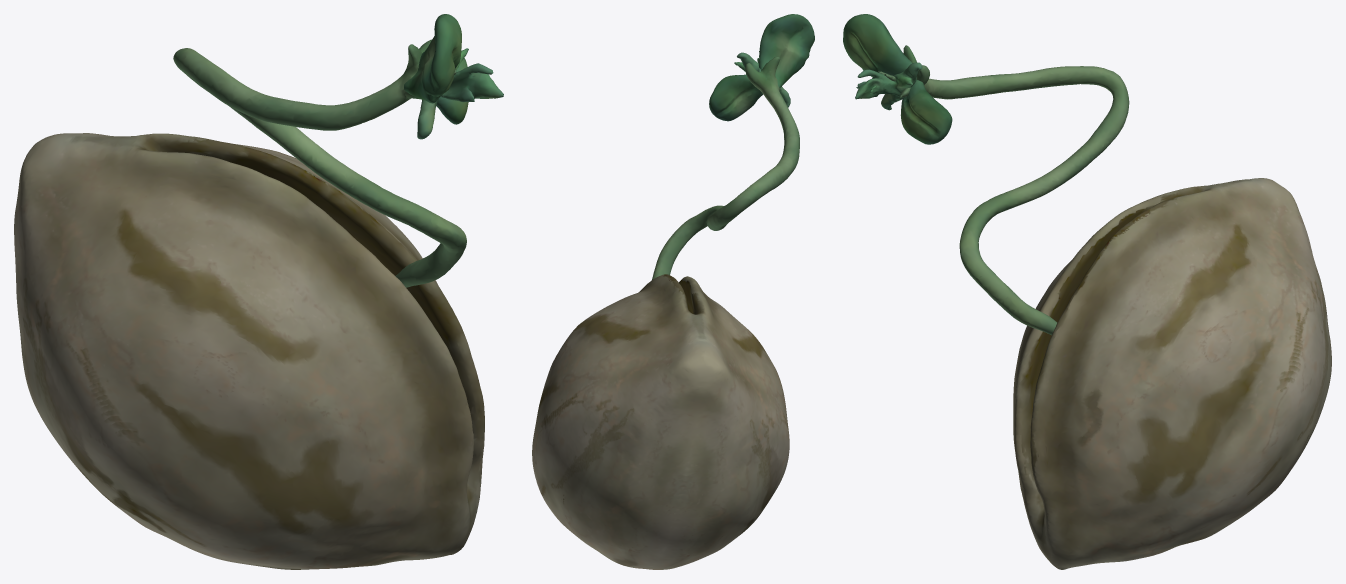
The model's file is seme.glb.
3 renders of one model, left to right at view 1: azimuth 30°, elevation 25°; view 2: azimuth 150°, elevation 25°; view 3: azimuth 270°, elevation 25°, orthographic. The views are drawn at different scales.
Visible parts, largest first — view 1: Layer_1, Layer_5, Layer_3, Layer_4, Layer_2; view 2: Layer_1, Layer_5, Layer_3, Layer_2, Layer_4; view 3: Layer_1, Layer_5, Layer_3, Layer_2, Layer_4.
Boxes of the visible parts, <box> form: Layer_1: <box>14,133,484,569</box>; Layer_5: <box>173,39,466,287</box>; Layer_3: <box>404,14,461,103</box>; Layer_4: <box>417,48,503,139</box>; Layer_2: <box>436,58,468,124</box>; Layer_1: <box>532,274,789,569</box>; Layer_5: <box>652,57,799,279</box>; Layer_3: <box>758,14,814,88</box>; Layer_2: <box>709,74,763,121</box>; Layer_4: <box>734,51,790,107</box>; Layer_1: <box>1013,178,1331,569</box>; Layer_5: <box>878,45,1129,335</box>; Layer_3: <box>843,14,912,77</box>; Layer_2: <box>900,80,952,144</box>; Layer_4: <box>855,62,922,110</box>.
Bounding box in the file's own units: 0.0672 × 0.1209 × 0.104.
